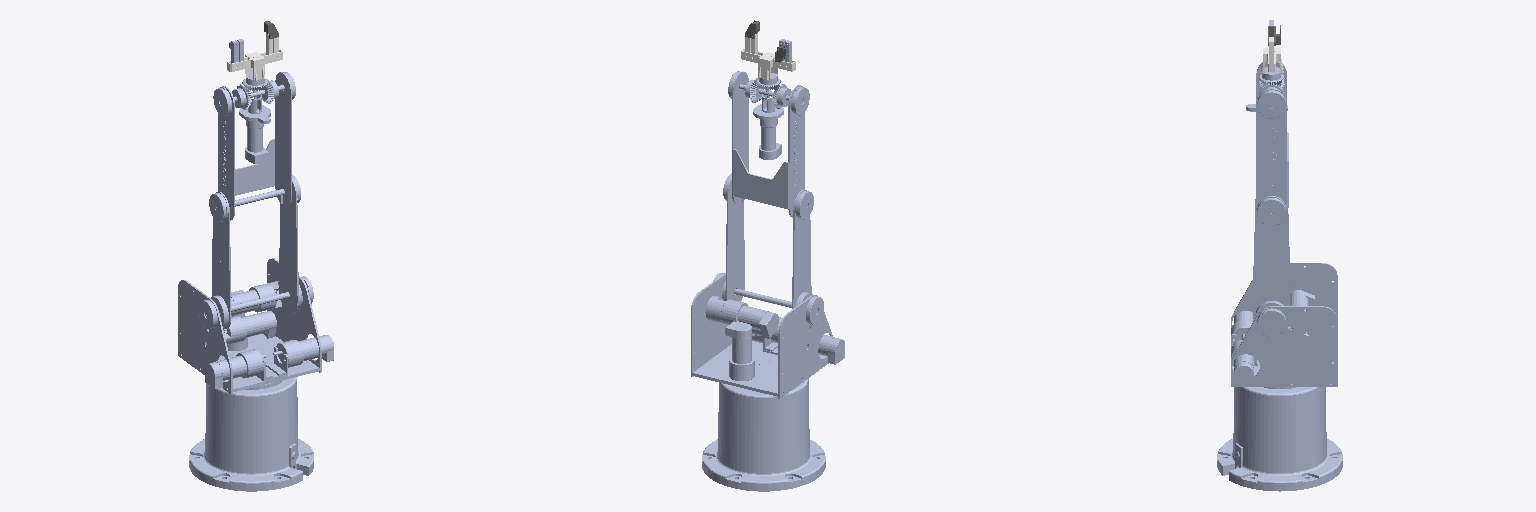
robot.urdf — scorbot_er4u_mesh_and_urdf:
<?xml version="1.0" encoding="utf-8"?>
<!-- This URDF was automatically created by SolidWorks to URDF Exporter! Originally created by Stephen Brawner (brawner@gmail.com) 
     Commit Version: 1.6.0-4-g7f85cfe  Build Version: 1.6.7995.38578
     For more information, please see http://wiki.ros.org/sw_urdf_exporter -->
<robot
  name="scorbot_er4u_mesh_and_urdf">
  <link
    name="base_link">
    <inertial>
      <origin
        xyz="-0.00016017 0.00027743 0.090431"
        rpy="0 0 0" />
      <mass
        value="5.1894" />
      <inertia
        ixx="0.02933"
        ixy="-6.5894E-05"
        ixz="-7.1468E-05"
        iyy="0.029406"
        iyz="0.00012379"
        izz="0.023038" />
    </inertial>
    <visual>
      <origin
        xyz="0 0 0"
        rpy="0 0 0" />
      <geometry>
        <mesh
          filename="package://scorbot_er4u_mesh_and_urdf/meshes/base_link.STL" />
      </geometry>
      <material
        name="">
        <color
          rgba="0.79216 0.81961 0.93333 1" />
      </material>
    </visual>
    <collision>
      <origin
        xyz="0 0 0"
        rpy="0 0 0" />
      <geometry>
        <mesh
          filename="package://scorbot_er4u_mesh_and_urdf/meshes/base_link.STL" />
      </geometry>
    </collision>
  </link>
  <link
    name="shoulder">
    <inertial>
      <origin
        xyz="0.00799935706662509 0.0716689468156619 0.0065021547736188"
        rpy="0 0 0" />
      <mass
        value="1.71243232094245" />
      <inertia
        ixx="0.00253667125917515"
        ixy="5.33015957394309E-06"
        ixz="-6.15883660515544E-06"
        iyy="0.00346391401825662"
        iyz="4.53143594502608E-05"
        izz="0.00263678029911136" />
    </inertial>
    <visual>
      <origin
        xyz="0 0 0"
        rpy="0 0 0" />
      <geometry>
        <mesh
          filename="package://scorbot_er4u_mesh_and_urdf/meshes/shoulder.STL" />
      </geometry>
      <material
        name="">
        <color
          rgba="0.792156862745098 0.819607843137255 0.933333333333333 1" />
      </material>
    </visual>
    <collision>
      <origin
        xyz="0 0 0"
        rpy="0 0 0" />
      <geometry>
        <mesh
          filename="package://scorbot_er4u_mesh_and_urdf/meshes/shoulder.STL" />
      </geometry>
    </collision>
  </link>
  <joint
    name="j1"
    type="revolute">
    <origin
      xyz="0 0 0.2035"
      rpy="1.5707963267949 0 0" />
    <parent
      link="base_link" />
    <child
      link="shoulder" />
    <axis
      xyz="0 1 0" />
    <limit
      lower="-155"
      upper="155"
      effort="0"
      velocity="0" />
  </joint>
  <link
    name="link2">
    <inertial>
      <origin
        xyz="-0.00149978684268147 0.0491674781738463 0.121546334405147"
        rpy="0 0 0" />
      <mass
        value="0.13907465828287" />
      <inertia
        ixx="0.000705197409920323"
        ixy="-2.85322371189166E-09"
        ixz="-1.30628027859479E-08"
        iyy="0.000609449635828272"
        iyz="-0.000215930113740886"
        izz="0.00016366782701836" />
    </inertial>
    <visual>
      <origin
        xyz="0 0 0"
        rpy="0 0 0" />
      <geometry>
        <mesh
          filename="package://scorbot_er4u_mesh_and_urdf/meshes/link2.STL" />
      </geometry>
      <material
        name="">
        <color
          rgba="0.792156862745098 0.819607843137255 0.933333333333333 1" />
      </material>
    </visual>
    <collision>
      <origin
        xyz="0 0 0"
        rpy="0 0 0" />
      <geometry>
        <mesh
          filename="package://scorbot_er4u_mesh_and_urdf/meshes/link2.STL" />
      </geometry>
    </collision>
  </link>
  <joint
    name="j2"
    type="revolute">
    <origin
      xyz="0 0.148 0.015814"
      rpy="-1.1861 0 0" />
    <parent
      link="shoulder" />
    <child
      link="link2" />
    <axis
      xyz="1 0 0" />
    <limit
      lower="-35"
      upper="130"
      effort="0"
      velocity="0" />
  </joint>
  <link
    name="link3">
    <inertial>
      <origin
        xyz="-0.00161140925205583 -0.0653393953221578 0.089134154038203"
        rpy="0 0 0" />
      <mass
        value="0.134522448345309" />
      <inertia
        ixx="0.000725362267539187"
        ixy="-2.21957210470906E-08"
        ixz="4.37665536359324E-08"
        iyy="0.000787599694172007"
        iyz="0.000313843711979311"
        izz="0.00077136385456754" />
    </inertial>
    <visual>
      <origin
        xyz="0 0 0"
        rpy="0 0 0" />
      <geometry>
        <mesh
          filename="package://scorbot_er4u_mesh_and_urdf/meshes/link3.STL" />
      </geometry>
      <material
        name="">
        <color
          rgba="0.792156862745098 0.819607843137255 0.933333333333333 1" />
      </material>
    </visual>
    <collision>
      <origin
        xyz="0 0 0"
        rpy="0 0 0" />
      <geometry>
        <mesh
          filename="package://scorbot_er4u_mesh_and_urdf/meshes/link3.STL" />
      </geometry>
    </collision>
  </link>
  <joint
    name="j3"
    type="revolute">
    <origin
      xyz="0 0.083319 0.20577"
      rpy="-1.0758 0 0" />
    <parent
      link="link2" />
    <child
      link="link3" />
    <axis
      xyz="1 0 0" />
    <limit
      lower="-130"
      upper="130"
      effort="0"
      velocity="0" />
  </joint>
  <link
    name="wrist_pitch">
    <inertial>
      <origin
        xyz="-0.00150003286811627 0.333739798462262 0.398404504559236"
        rpy="0 0 0" />
      <mass
        value="0.204374014246953" />
      <inertia
        ixx="6.11183155896937E-05"
        ixy="-2.16956947813519E-12"
        ixz="1.32110954242711E-11"
        iyy="5.64540201198786E-05"
        iyz="-1.79410437364399E-06"
        izz="6.67639365103607E-05" />
    </inertial>
    <visual>
      <origin
        xyz="0 0 0"
        rpy="0 0 0" />
      <geometry>
        <mesh
          filename="package://scorbot_er4u_mesh_and_urdf/meshes/wrist_pitch.STL" />
      </geometry>
      <material
        name="">
        <color
          rgba="0.792156862745098 0.819607843137255 0.933333333333333 1" />
      </material>
    </visual>
    <collision>
      <origin
        xyz="0 0 0"
        rpy="0 0 0" />
      <geometry>
        <mesh
          filename="package://scorbot_er4u_mesh_and_urdf/meshes/wrist_pitch.STL" />
      </geometry>
    </collision>
  </link>
  <joint
    name="j4"
    type="fixed">
    <origin
      xyz="0 -0.6282 0.22877"
      rpy="-1.0472 0 0" />
    <parent
      link="link3" />
    <child
      link="wrist_pitch" />
    <axis
      xyz="0 0 0" />
    <limit
      lower="-130"
      upper="130"
      effort="0"
      velocity="0" />
  </joint>
  <link
    name="wrist_roll">
    <inertial>
      <origin
        xyz="-2.8807E-08 0.01672 -0.00060103"
        rpy="0 0 0" />
      <mass
        value="0.03322" />
      <inertia
        ixx="1.1527E-05"
        ixy="1.6124E-11"
        ixz="2.3181E-11"
        iyy="1.8187E-05"
        iyz="-6.5335E-08"
        izz="2.3651E-05" />
    </inertial>
    <visual>
      <origin
        xyz="0 0 0"
        rpy="0 0 0" />
      <geometry>
        <mesh
          filename="package://scorbot_er4u_mesh_and_urdf/meshes/wrist_roll.STL" />
      </geometry>
      <material
        name="">
        <color
          rgba="1 1 1 1" />
      </material>
    </visual>
    <collision>
      <origin
        xyz="0 0 0"
        rpy="0 0 0" />
      <geometry>
        <mesh
          filename="package://scorbot_er4u_mesh_and_urdf/meshes/wrist_roll.STL" />
      </geometry>
    </collision>
  </link>
  <joint
    name="j5"
    type="continuous">
    <origin
      xyz="-0.0015000000000021 0.21444583740546 0.379318079320239"
      rpy="2.974130834029 0 3.14159265358979" />
    <parent
      link="wrist_pitch" />
    <child
      link="wrist_roll" />
    <axis
      xyz="0 1 0" />
    <limit
      lower="-130"
      upper="130"
      effort="0"
      velocity="0" />
  </joint>
  <link
    name="tool_right">
    <inertial>
      <origin
        xyz="0.0229999999999939 -1.76941794549634E-16 -0.00650000000000003"
        rpy="0 0 0" />
      <mass
        value="0.0109316017944005" />
      <inertia
        ixx="1.84434457629354E-07"
        ixy="2.02374526996411E-20"
        ixz="-2.18646564223463E-22"
        iyy="2.76898790125655E-06"
        iyz="-7.12140169843449E-24"
        izz="2.7667468068672E-06" />
    </inertial>
    <visual>
      <origin
        xyz="0 0 0"
        rpy="0 0 0" />
      <geometry>
        <mesh
          filename="package://scorbot_er4u_mesh_and_urdf/meshes/tool_right.STL" />
      </geometry>
      <material
        name="">
        <color
          rgba="1 1 1 1" />
      </material>
    </visual>
    <collision>
      <origin
        xyz="0 0 0"
        rpy="0 0 0" />
      <geometry>
        <mesh
          filename="package://scorbot_er4u_mesh_and_urdf/meshes/tool_right.STL" />
      </geometry>
    </collision>
  </link>
  <joint
    name="j6_r"
    type="revolute">
    <origin
      xyz="-0.032 0.0085 0"
      rpy="-1.5708 0 -1.5708" />
    <parent
      link="wrist_roll" />
    <child
      link="tool_right" />
    <axis
      xyz="0 1 0" />
    <limit
      lower="-45"
      upper="45"
      effort="0"
      velocity="0" />
  </joint>
  <link
    name="tip_right">
    <inertial>
      <origin
        xyz="0.0036727 0.017661 -0.005"
        rpy="0 0 0" />
      <mass
        value="0.0045442" />
      <inertia
        ixx="4.5817E-07"
        ixy="1.2647E-07"
        ixz="2.6565E-23"
        iyy="3.0432E-07"
        iyz="-2.6934E-23"
        izz="5.0472E-07" />
    </inertial>
    <visual>
      <origin
        xyz="0 0 0"
        rpy="0 0 0" />
      <geometry>
        <mesh
          filename="package://scorbot_er4u_mesh_and_urdf/meshes/tip_right.STL" />
      </geometry>
      <material
        name="">
        <color
          rgba="0.50196 0.50196 0.50196 1" />
      </material>
    </visual>
    <collision>
      <origin
        xyz="0 0 0"
        rpy="0 0 0" />
      <geometry>
        <mesh
          filename="package://scorbot_er4u_mesh_and_urdf/meshes/tip_right.STL" />
      </geometry>
    </collision>
  </link>
  <joint
    name="j7_r"
    type="fixed">
    <origin
      xyz="0.0420000000000128 -0.00499999999999319 0.00350000000032195"
      rpy="1.5707963267949 1.5707963267949 0" />
    <parent
      link="tool_right" />
    <child
      link="tip_right" />
    <axis
      xyz="0 0 0" />
    <limit
      lower="0"
      upper="0"
      effort="0"
      velocity="0" />
  </joint>
  <link
    name="tool_left">
    <inertial>
      <origin
        xyz="0.0229999999999939 -1.73472347597681E-16 0.00650000000000003"
        rpy="0 0 0" />
      <mass
        value="0.0109316017944005" />
      <inertia
        ixx="1.84434457629354E-07"
        ixy="2.05734992375707E-20"
        ixz="3.38011947262265E-22"
        iyy="2.76898790125654E-06"
        iyz="2.05006607701497E-23"
        izz="2.7667468068672E-06" />
    </inertial>
    <visual>
      <origin
        xyz="0 0 0"
        rpy="0 0 0" />
      <geometry>
        <mesh
          filename="package://scorbot_er4u_mesh_and_urdf/meshes/tool_left.STL" />
      </geometry>
      <material
        name="">
        <color
          rgba="0.792156862745098 0.819607843137255 0.933333333333333 1" />
      </material>
    </visual>
    <collision>
      <origin
        xyz="0 0 0"
        rpy="0 0 0" />
      <geometry>
        <mesh
          filename="package://scorbot_er4u_mesh_and_urdf/meshes/tool_left.STL" />
      </geometry>
    </collision>
  </link>
  <joint
    name="j6_l"
    type="revolute">
    <origin
      xyz="0.0320000000000329 0.0085000000000004 0"
      rpy="-1.5707963267949 0 -1.57079632679548" />
    <parent
      link="wrist_roll" />
    <child
      link="tool_left" />
    <axis
      xyz="0 1 0" />
    <limit
      lower="-45"
      upper="45"
      effort="0"
      velocity="0" />
  </joint>
  <link
    name="tip_left">
    <inertial>
      <origin
        xyz="0.00367269052710108 0.017660866085392 -0.00499999999999999"
        rpy="0 0 0" />
      <mass
        value="0.00454420794860012" />
      <inertia
        ixx="4.58166498573772E-07"
        ixy="1.26469725965748E-07"
        ixz="1.52250858587451E-23"
        iyy="3.04318268818379E-07"
        iyz="2.01495233866649E-22"
        izz="5.04715794044642E-07" />
    </inertial>
    <visual>
      <origin
        xyz="0 0 0"
        rpy="0 0 0" />
      <geometry>
        <mesh
          filename="package://scorbot_er4u_mesh_and_urdf/meshes/tip_left.STL" />
      </geometry>
      <material
        name="">
        <color
          rgba="0.501960784313725 0.501960784313725 0.501960784313725 1" />
      </material>
    </visual>
    <collision>
      <origin
        xyz="0 0 0"
        rpy="0 0 0" />
      <geometry>
        <mesh
          filename="package://scorbot_er4u_mesh_and_urdf/meshes/tip_left.STL" />
      </geometry>
    </collision>
  </link>
  <joint
    name="j7_l"
    type="fixed">
    <origin
      xyz="0.0420000000000023 0.005 -0.00350000000001019"
      rpy="1.57079632679489 -1.5707963267949 0" />
    <parent
      link="tool_left" />
    <child
      link="tip_left" />
    <axis
      xyz="0 0 0" />
    <limit
      lower="0"
      upper="0"
      effort="0"
      velocity="0" />
  </joint>
</robot>

--- What the picture shows (computed from the rendered views, not written in the file) ---
3 views of the same robot in one strip: view 1: azimuth 30°, elevation 25°; view 2: azimuth 150°, elevation 25°; view 3: azimuth 270°, elevation 25° (orthographic).
Model scorbot_er4u_mesh_and_urdf with 10 links and 9 joints (5 revolute, 1 continuous, 3 fixed), rooted at base_link, posed all joints at 0.
Links seen in each view (by area): view 1: shoulder, base_link, link3, link2, wrist_pitch, wrist_roll; view 2: shoulder, base_link, link3, link2, wrist_pitch, wrist_roll; view 3: shoulder, base_link, link2, link3, wrist_pitch.
Link boxes in pixels (x1,y1,x2,y2): shoulder: (178, 258, 333, 393); base_link: (189, 377, 313, 491); link3: (213, 72, 295, 220); link2: (209, 175, 300, 329); wrist_pitch: (232, 73, 284, 163); wrist_roll: (227, 49, 282, 92); shoulder: (691, 273, 844, 398); base_link: (702, 360, 825, 491); link3: (728, 71, 809, 217); link2: (723, 173, 813, 308); wrist_pitch: (739, 73, 791, 159); wrist_roll: (741, 49, 795, 91); shoulder: (1231, 263, 1337, 386); base_link: (1217, 387, 1342, 491); link2: (1253, 196, 1290, 319); link3: (1256, 62, 1288, 207); wrist_pitch: (1246, 67, 1287, 111).
Size in the robot's own frame: 0.266 by 0.2411 by 0.941 metres.
10 mesh visuals loaded from 10 distinct referenced files (10 binary STL).
